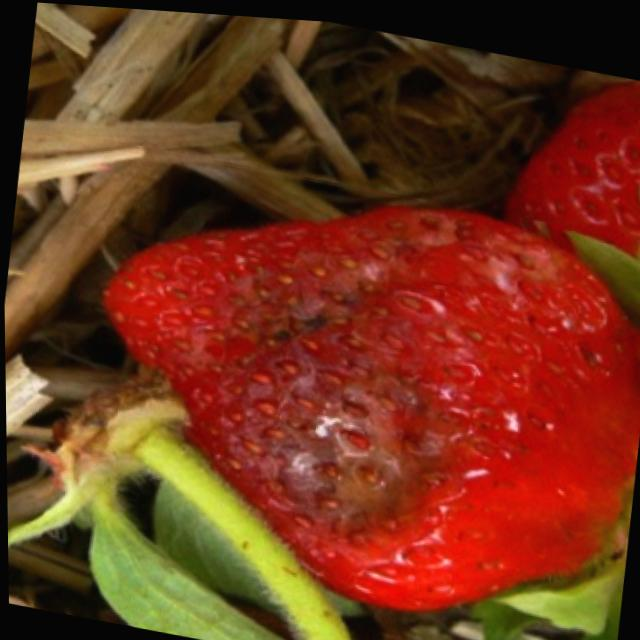Anthracnose Fruit Rot: (143, 201, 584, 573)
